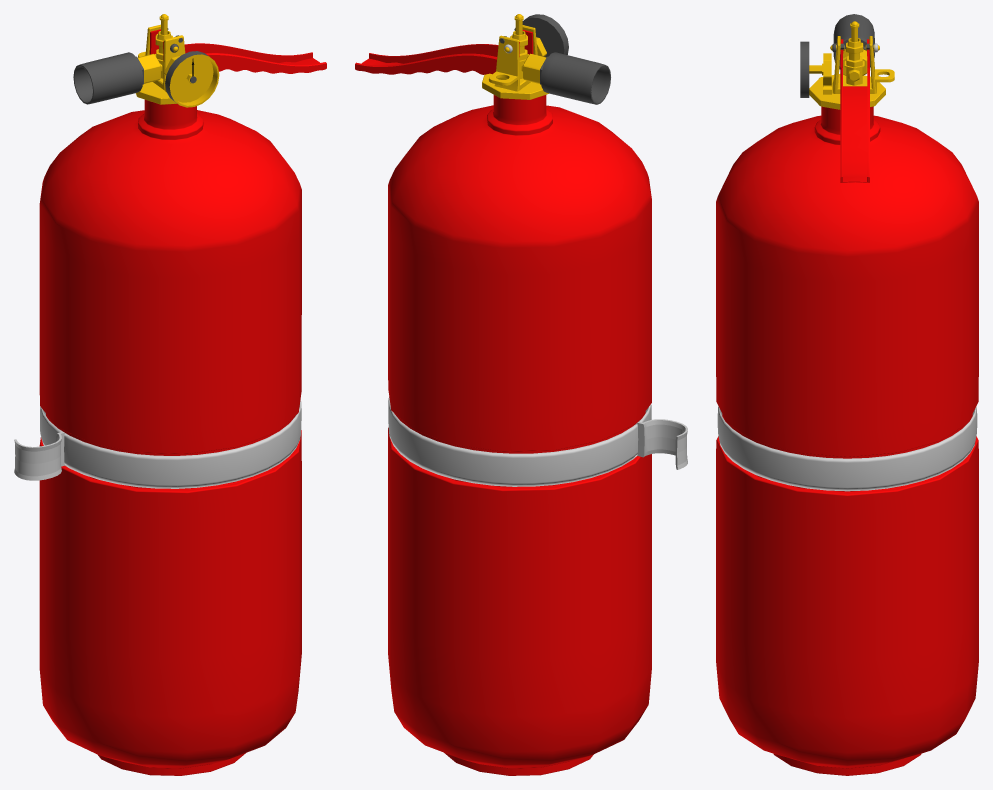
3 views of the same model, side by side, from view 1: azimuth 30°, elevation 25°; view 2: azimuth 150°, elevation 25°; view 3: azimuth 270°, elevation 25° (orthographic).
Parts seen in each view (by area): view 1: polySurface23, polySurface22, polySurface42, polySurface30, polySurface28, polySurface40; view 2: polySurface23, polySurface22, polySurface30, polySurface42, polySurface40, polySurface28, polySurface24; view 3: polySurface23, polySurface22, polySurface30, polySurface40, polySurface42, polySurface24, polySurface38, polySurface28.
Part boxes in pixels (bbox=[...]): polySurface23: bbox=[39, 99, 301, 775]; polySurface22: bbox=[14, 399, 301, 488]; polySurface42: bbox=[73, 52, 143, 104]; polySurface30: bbox=[149, 29, 326, 73]; polySurface28: bbox=[165, 51, 219, 107]; polySurface40: bbox=[138, 24, 185, 90]; polySurface23: bbox=[388, 95, 651, 775]; polySurface22: bbox=[388, 396, 687, 486]; polySurface30: bbox=[355, 30, 533, 74]; polySurface42: bbox=[540, 52, 610, 104]; polySurface40: bbox=[488, 25, 537, 91]; polySurface28: bbox=[522, 14, 568, 57]; polySurface24: bbox=[482, 73, 548, 99]; polySurface23: bbox=[716, 106, 978, 775]; polySurface22: bbox=[717, 406, 977, 491]; polySurface30: bbox=[840, 39, 869, 182]; polySurface40: bbox=[832, 36, 894, 93]; polySurface42: bbox=[833, 14, 874, 69]; polySurface24: bbox=[809, 74, 885, 109]; polySurface38: bbox=[844, 38, 864, 85]; polySurface28: bbox=[800, 41, 809, 97].
Bounding box in the file's own units: 16.22 × 36.19 × 11.98.
